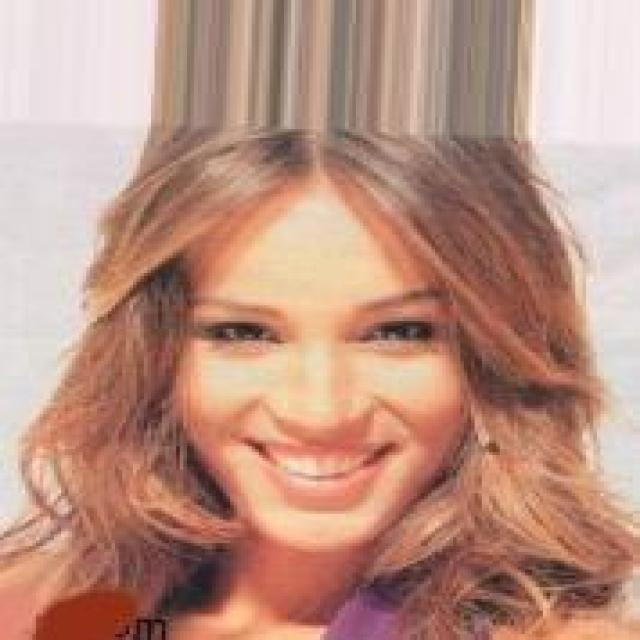bareface: (193, 206, 471, 552)
